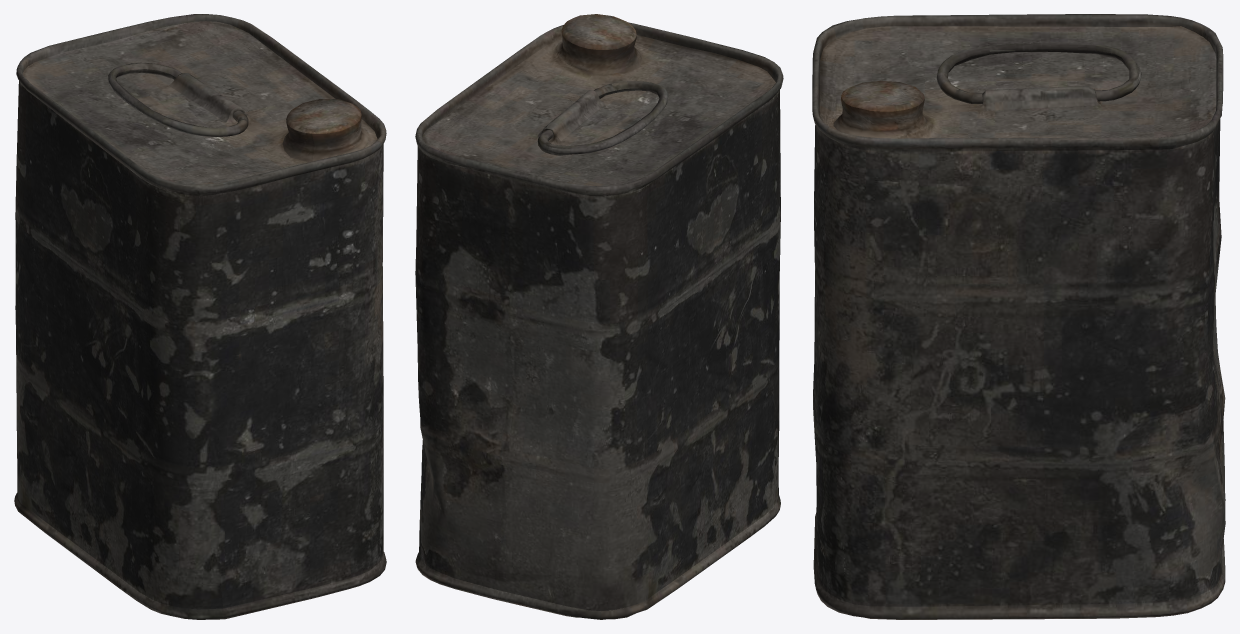
File: yag_tenekesi.gltf
The picture shows the model from 3 angles, left to right: view 1: azimuth 30°, elevation 25°; view 2: azimuth 150°, elevation 25°; view 3: azimuth 270°, elevation 25°; orthographic projection. The views are drawn at different scales.
Visible parts, largest first — view 1: yag_tenekesi; view 2: yag_tenekesi; view 3: yag_tenekesi.
Boxes of the visible parts, left/top/right/bottom form: yag_tenekesi: left=14, top=14, right=386, bottom=619; yag_tenekesi: left=415, top=14, right=783, bottom=619; yag_tenekesi: left=812, top=14, right=1225, bottom=619.
Size of what is drawn, in the model's own units: 0.1147 by 0.2054 by 0.1535.
Materials: 1 (1 with a texture image).
